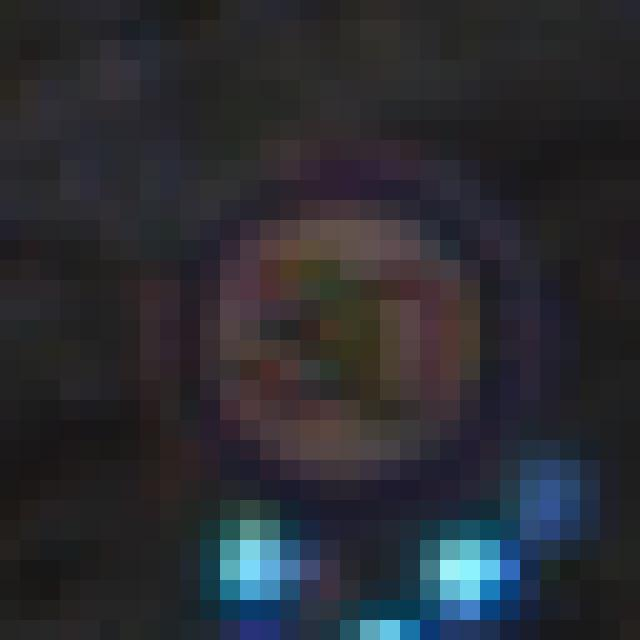SPEED-LIMIT-80: (180, 181, 530, 515)
